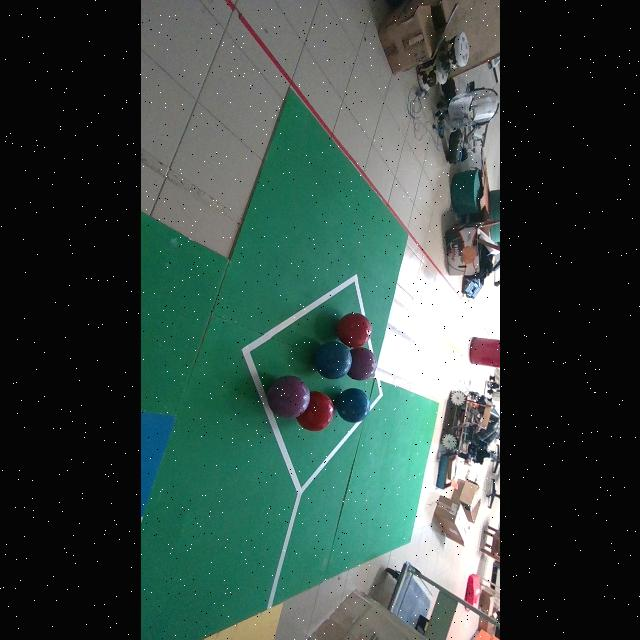B: (314, 342, 351, 379), (336, 389, 370, 423)
P: (266, 376, 310, 418), (347, 348, 377, 380)
R: (296, 391, 334, 432), (335, 313, 372, 348)
